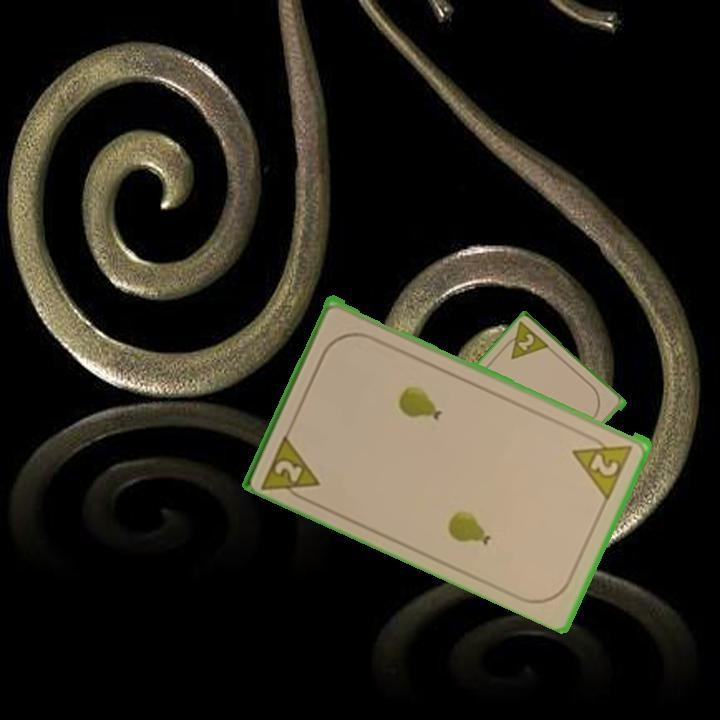2p: (259, 428, 324, 506), (569, 430, 636, 500), (497, 319, 554, 363)
